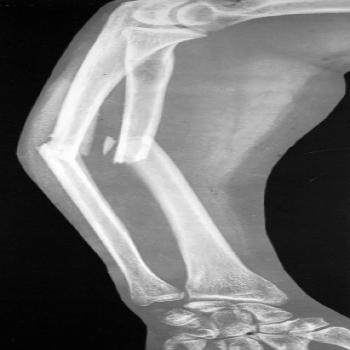Fracture: (110, 129, 174, 169), (28, 134, 93, 157)
